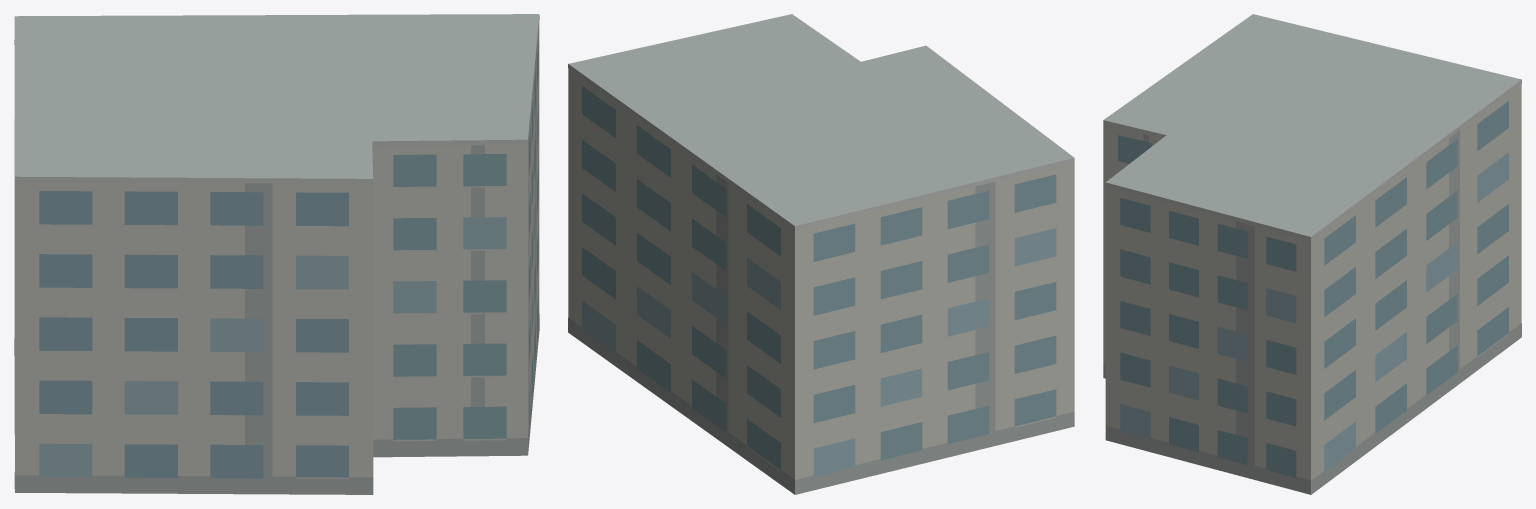
File: residential-8a0ff5c3-5dc9-4565-ac8d-c58d98496d13.glb
3 renders of one model, left to right at view 1: azimuth 30°, elevation 25°; view 2: azimuth 150°, elevation 25°; view 3: azimuth 270°, elevation 25°, orthographic. The views are drawn at different scales.
Parts seen in each view (by area): view 1: residential-8a0ff5c3-5dc9-4565-ac8d-c58d98496d13.tmp; view 2: residential-8a0ff5c3-5dc9-4565-ac8d-c58d98496d13.tmp; view 3: residential-8a0ff5c3-5dc9-4565-ac8d-c58d98496d13.tmp.
Boxes of the visible parts, x1,y1,x2,y2 form: residential-8a0ff5c3-5dc9-4565-ac8d-c58d98496d13.tmp: [14, 14, 539, 494]; residential-8a0ff5c3-5dc9-4565-ac8d-c58d98496d13.tmp: [568, 14, 1074, 494]; residential-8a0ff5c3-5dc9-4565-ac8d-c58d98496d13.tmp: [1103, 14, 1521, 494].
Size of the model in its own units: 28.3 by 15.25 by 22.44.
